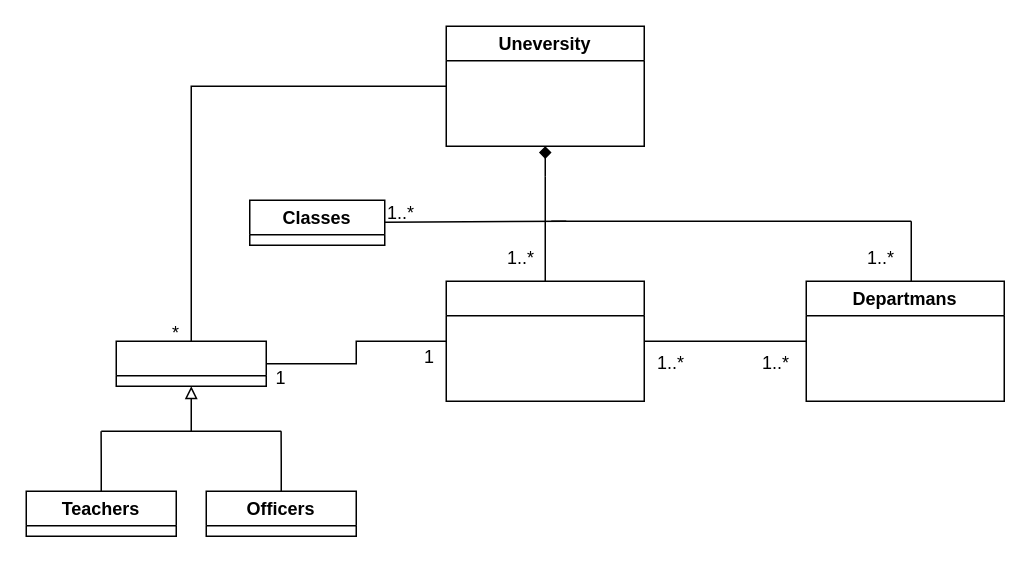
The diagram is 1031 pixels wide and 563 high, and some of its shapes have lost their labels. The shapes that lost their labels are listed below. From the top down, each one's box as (x1, y1, x2, y2) in pixels, then its label:
(445, 280, 644, 401): Offices
(115, 340, 266, 386): Employee
